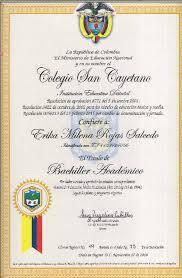escudo de colombia: (70, 1, 119, 44)
firma: (59, 201, 141, 233)
institucion: (32, 65, 157, 91)
nombre: (29, 125, 164, 146)
titulo: (41, 161, 153, 179)
